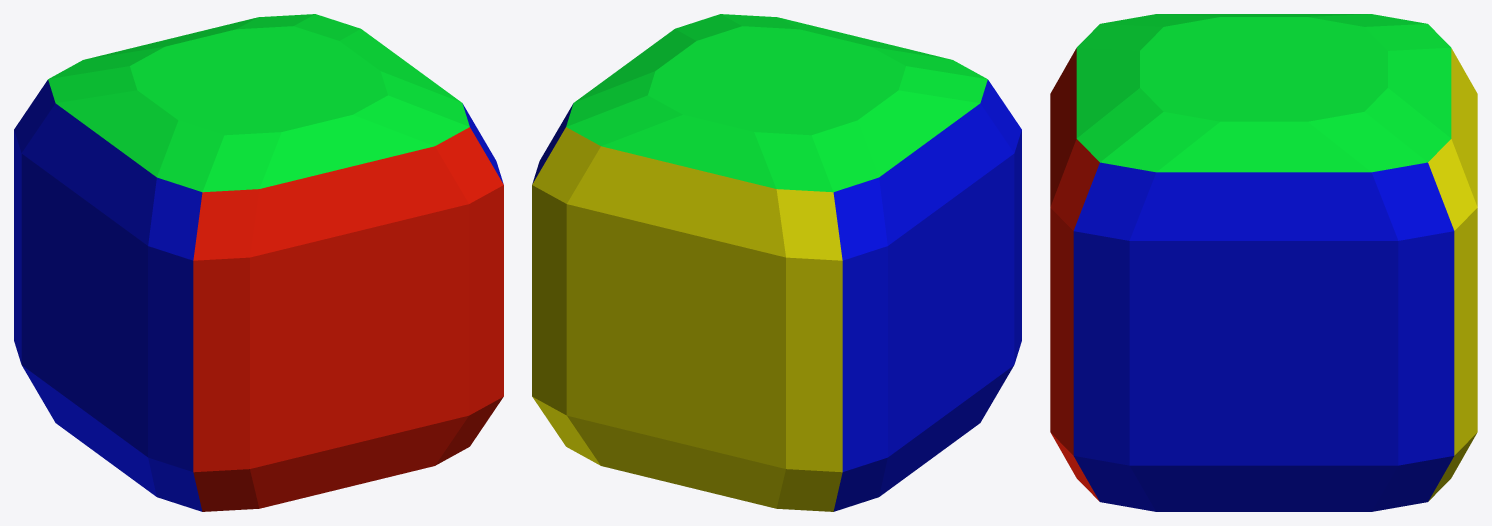
Rendered from rocky_box.fbx.
The picture shows the model from 3 angles, left to right: view 1: azimuth 30°, elevation 25°; view 2: azimuth 150°, elevation 25°; view 3: azimuth 270°, elevation 25°; orthographic projection. The views are drawn at different scales.
Visible parts, largest first — view 1: Cube; view 2: Cube; view 3: Cube.
Boxes of the visible parts, x1=… form: Cube: x1=14, y1=14, x2=503, y2=511; Cube: x1=532, y1=14, x2=1021, y2=511; Cube: x1=1050, y1=14, x2=1477, y2=511.
Bounding box in the file's own units: 0.5 × 0.5 × 0.5.
